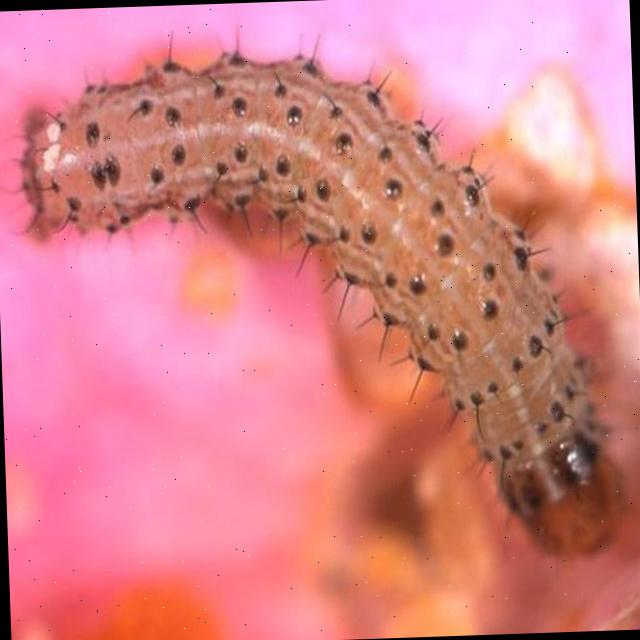worm: (9, 13, 632, 578)
